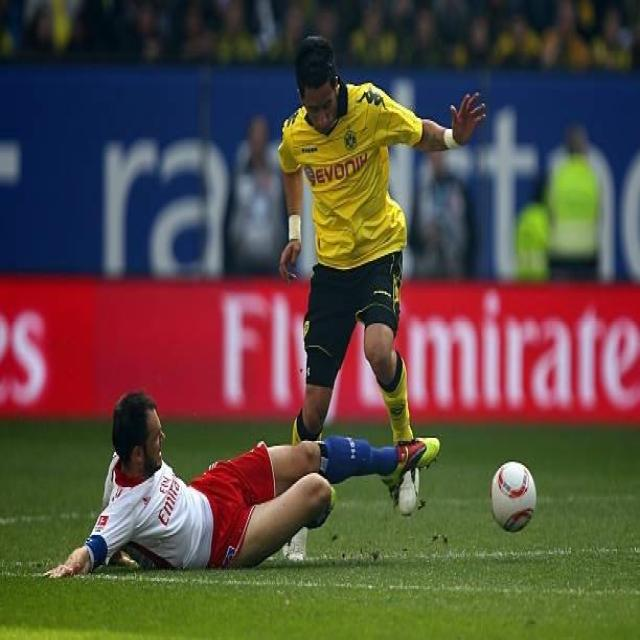ball: (488, 455, 538, 535)
player: (274, 38, 494, 513), (41, 393, 445, 588)
